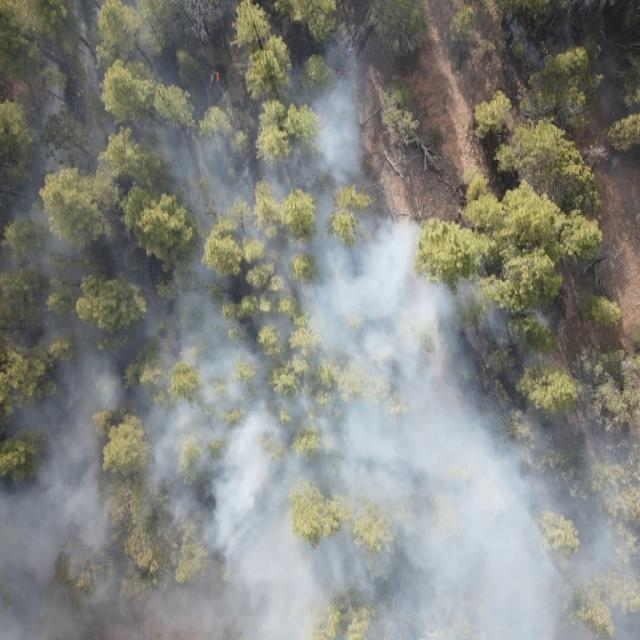fire: (336, 52, 355, 79), (206, 70, 222, 90)
smoke: (0, 0, 382, 640), (458, 269, 556, 640), (382, 214, 459, 640), (555, 375, 640, 640)
